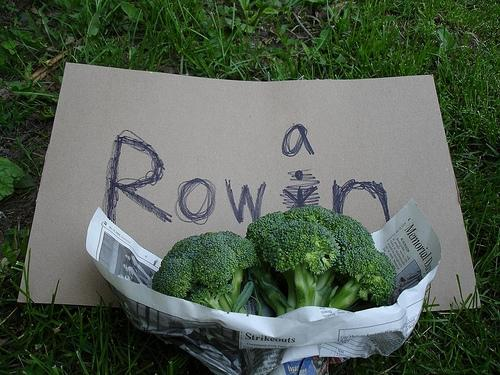broccoli: (246, 212, 340, 312), (152, 230, 262, 314), (328, 248, 397, 310), (283, 204, 336, 226)
